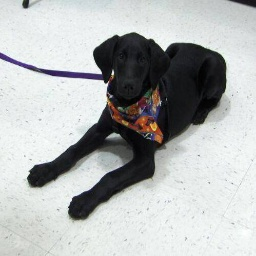dog: (25, 32, 228, 222)
